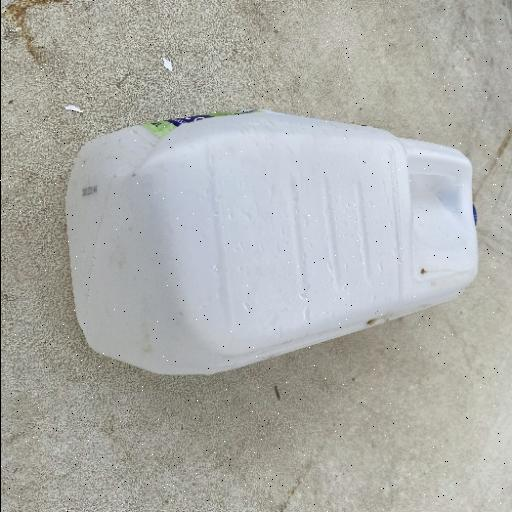Plastic: (64, 106, 480, 378)
